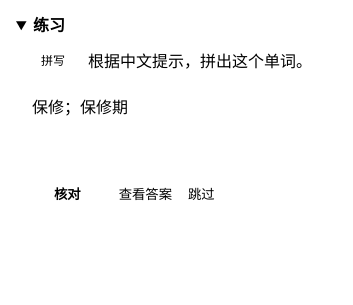
stays closed by default and never treats reveal or skip as mastery
Check: the element showing "练习 拼写 根据中文提示，拼出这个单词。 保修；保修期 核对 查看答案 跳过" is shown, box [32,17,312,216]
Check: the heading "练习" is shown, box [33,17,65,34]
Click the button "查看答案": (145, 193) [119,170,172,216]
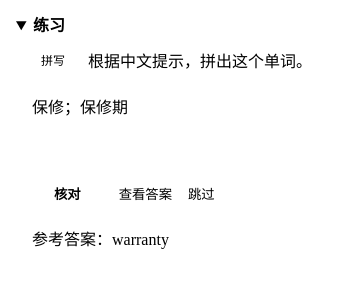
Check: the text "参考答案：warranty" is shown, box [32,231,169,248]
Click the button "跳过": (201, 193) [188,170,215,216]
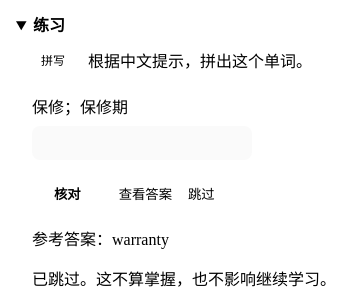
Check: the text "这不算掌握" is shown, box [32,271,336,288]
